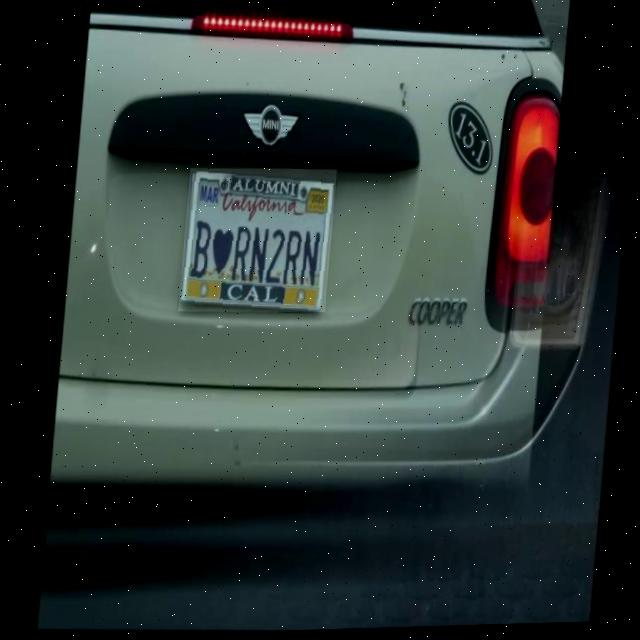LicensePlate: (181, 165, 339, 317)
